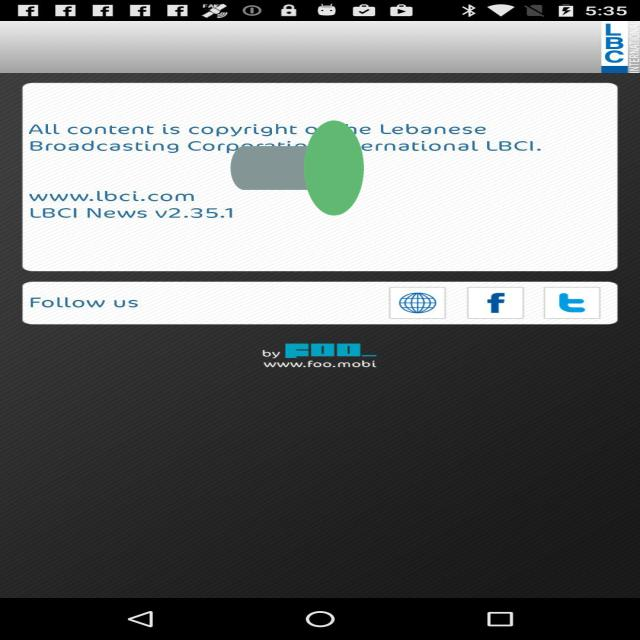social proof: (230, 62, 364, 274)
